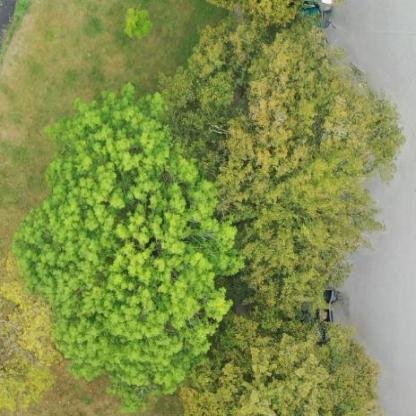Deciduous Tree: (173, 8, 393, 313), (26, 87, 230, 373), (141, 282, 397, 416)
